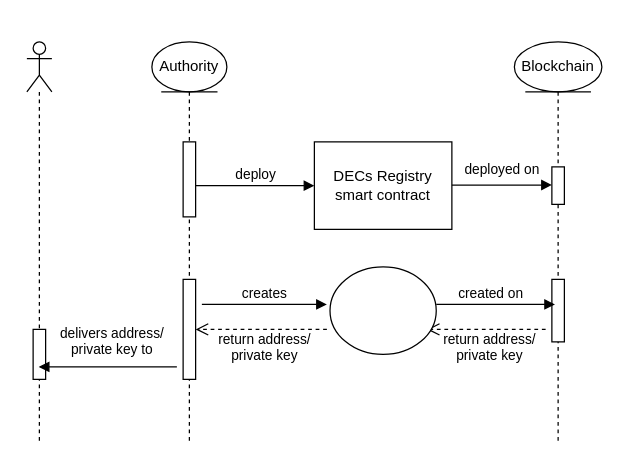
Image size: 624x464. Some labels were removed from this diagram. The shapes that lost their labels are listed below. From the top down, each one's box as (x1, y1, x2, y2) in pixels, then its label:
(26, 41, 52, 442): Voter
(329, 266, 436, 354): EOA
